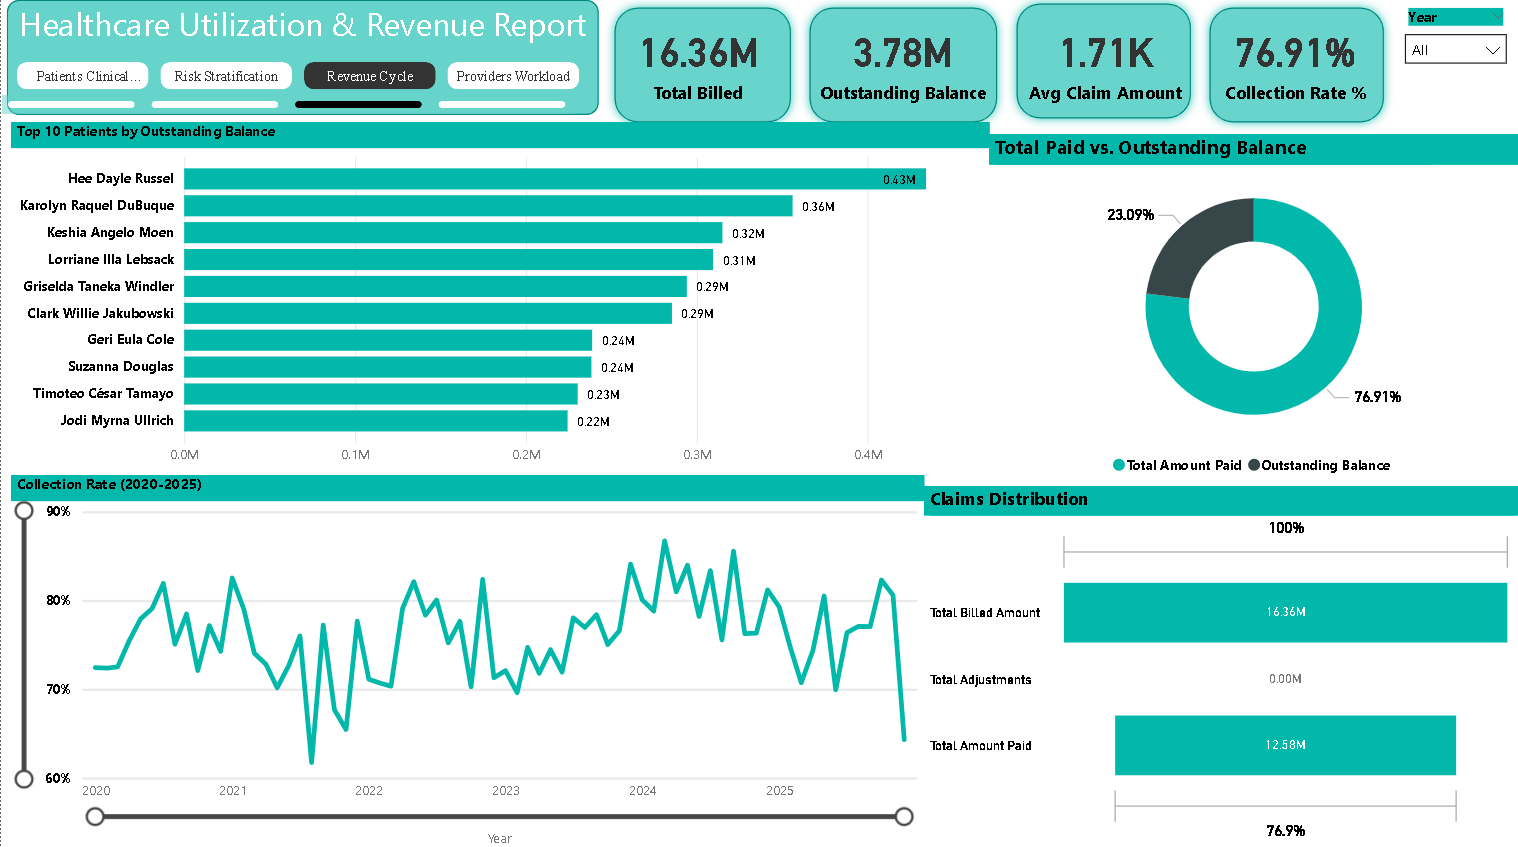

This screenshot's page, from the dashboard's own definition file:
{"tool":"powerbi","page":{"name":"Revenue Cycle","canvas":[1280,720],"ordinal":2},"visuals":[{"type":"shape","box":[1010.9,3.5,163,113],"z":0},{"type":"pageNavigator","box":[1.2,85.7,482.2,16.4],"z":0,"group":"g1"},{"type":"shape","box":[508.9,3.5,164.7,113],"z":1000},{"type":"pageNavigator","box":[8.6,52.6,487.3,33.4],"z":1000,"group":"g1"},{"type":"shape","box":[847.9,0,163,113],"z":2000},{"type":"shape","box":[673.6,3.5,174.2,113],"z":3000},{"type":"shape","box":[0,0,508.9,107],"z":4000},{"type":"card","fields":{"Values":["vw_outstanding_claims.Due Balance"]},"box":[671.9,6.9,177.7,100.1],"z":5000},{"type":"card","title":"Avg Encounter Per Patient","fields":{"Values":["Avg(vw_outstanding_claims.total_billed_amount)"]},"box":[849.6,3.5,163,107],"z":6000},{"type":"clusteredBarChart","title":"Top 10 Patients by Outstanding Balance","fields":{"Category":["vw_patient_summary.patient_full_name"],"Y":["Sum(vw_outstanding_claims.outstanding_balance)"]},"box":[8.1,107.8,824.7,296.9],"z":7000},{"type":"donutChart","title":"Total Paid vs. Outstanding Balance","fields":{"Y":["Sum(vw_outstanding_claims.total_amount_paid)","vw_outstanding_claims.Due Balance"]},"box":[832.9,118,446.4,296.9],"z":8000},{"type":"card","fields":{"Values":["Sum(vw_outstanding_claims.total_billed_amount)"]},"box":[508.9,6.9,157,100.1],"z":9000},{"type":"funnel","title":"Claims Distribution","fields":{"Y":["Sum(vw_outstanding_claims.total_billed_amount)","Sum(vw_outstanding_claims.total_adjustments)","Sum(vw_outstanding_claims.total_amount_paid)"]},"box":[778.2,414.7,501.8,305.5],"z":10000},{"type":"card","title":"Avg Encounter Per Patient","fields":{"Values":["vw_outstanding_claims.Collection Rate %"]},"box":[1008.3,3.5,165.6,107],"z":11000},{"type":"slicer","fields":{"Values":["vw_outstanding_claims.Year"]},"box":[1173.9,6.9,106.1,100.1],"z":12000},{"type":"lineChart","title":"Collection Rate (2020-2025)","fields":{"Category":["vw_outstanding_claims.service_date.Variation.Date Hierarchy.Year","vw_outstanding_claims.service_date.Variation.Date Hierarchy.Month"],"Y":["vw_outstanding_claims.Collection Rate %"]},"box":[8.1,405.4,770.1,314.8],"z":13000},{"type":"group","id":"g1","title":"Sub Navigation","box":[1.2,52.6,494.8,49.5],"z":14000}]}

Visuals, with their boxes in screenshot pixels (x1, y1, x2, y2), scaled from the page's 1280x720 canvas onto the 1518x847 screenshot:
shape: detection(1199, 4, 1392, 137)
pageNavigator: detection(1, 101, 573, 120)
shape: detection(604, 4, 799, 137)
pageNavigator: detection(10, 62, 588, 101)
shape: detection(1006, 0, 1199, 133)
shape: detection(799, 4, 1005, 137)
shape: detection(0, 0, 604, 126)
card - vw_outstanding_claims.Due Balance: detection(797, 8, 1008, 126)
"Avg Encounter Per Patient" card: detection(1008, 4, 1201, 130)
"Top 10 Patients by Outstanding Balance" clusteredBarChart: detection(10, 127, 988, 476)
"Total Paid vs. Outstanding Balance" donutChart: detection(988, 139, 1517, 488)
card - Sum(vw_outstanding_claims.total_billed_amount): detection(604, 8, 790, 126)
"Claims Distribution" funnel: detection(923, 488, 1517, 846)
"Avg Encounter Per Patient" card: detection(1196, 4, 1392, 130)
slicer - vw_outstanding_claims.Year: detection(1392, 8, 1517, 126)
"Collection Rate (2020-2025)" lineChart: detection(10, 477, 923, 846)
"Sub Navigation" group: detection(1, 62, 588, 120)
